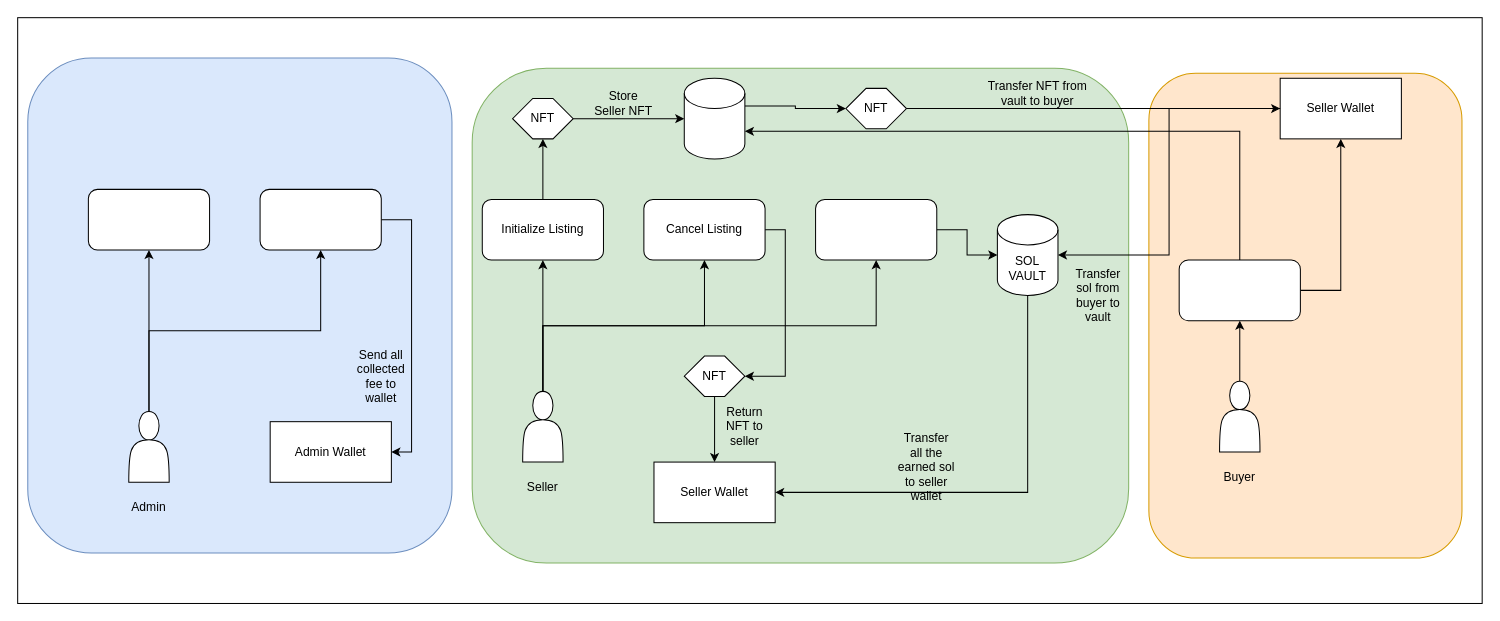
Image size: 1500x621. Some labels were removed from this diagram. The centre of each missing label's shape, as x and y in pixels:
Buy Listing: [1239,290]
Initialize Fee Vault: [148,219]
NFT VAULT: [714,118]
Withdraw Fees: [320,219]
Withdraw Funds: [876,229]
